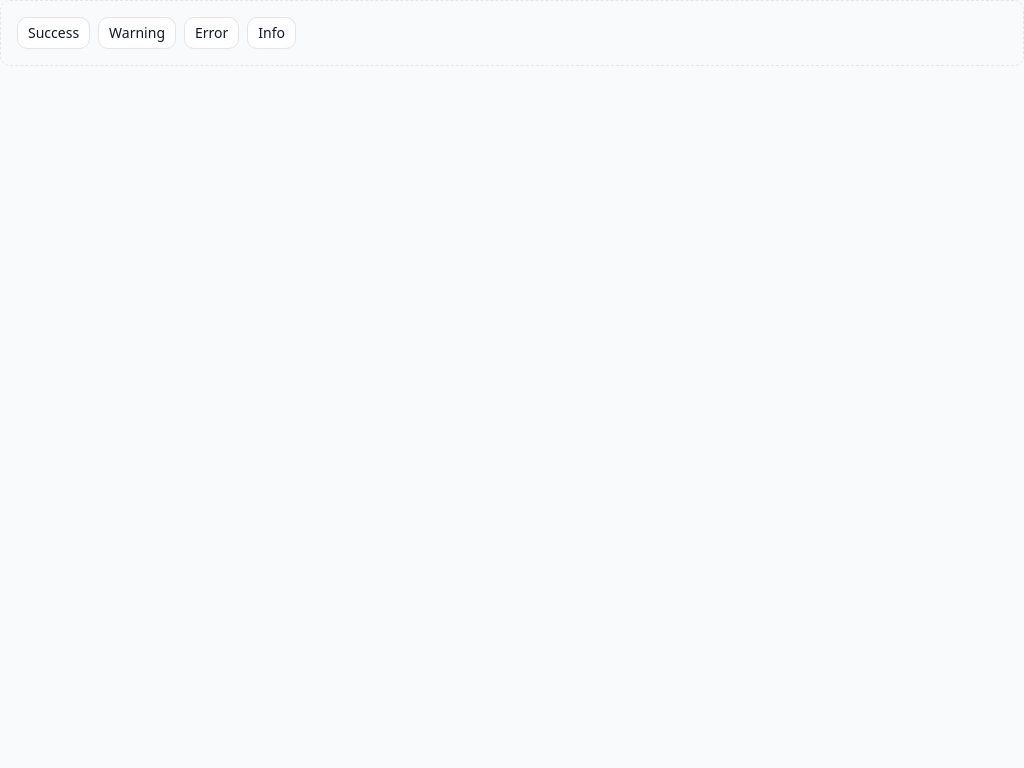
Test: ToastPreview › dismisses an error toast when the close button is clicked
The image size is (1024, 768).
# Act — show error toast
Click the button "Error" at (212, 33), box [184,17,239,49]
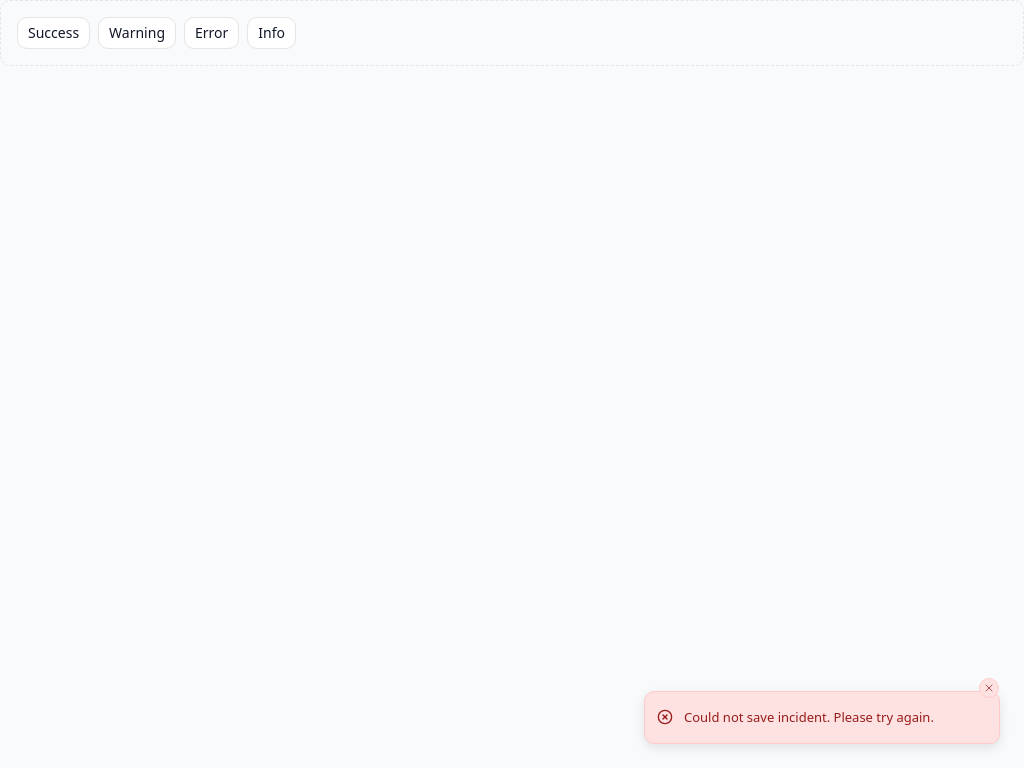
expect the text "Could not save incident. Please try again." is shown: met, box [684,708,934,727]
# Act — manual dismiss via close button
Click the button named "Close toast" at (989, 688), box [979,678,999,698]
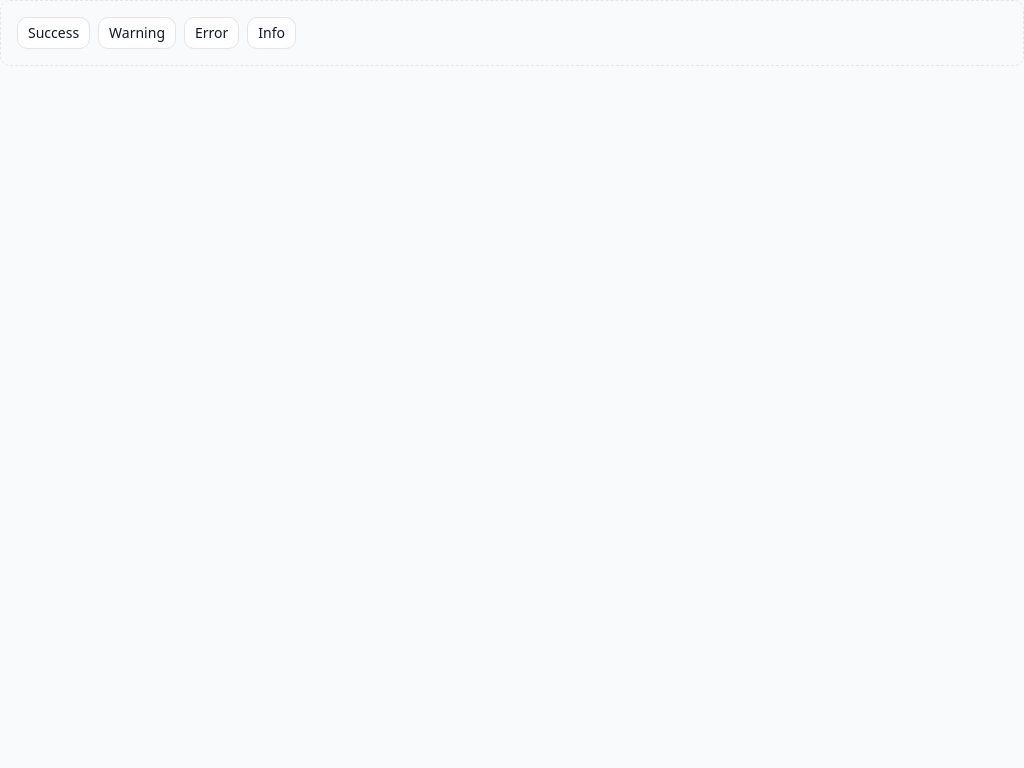
expect the text "Could not save incident. Please try again." is gone: met
